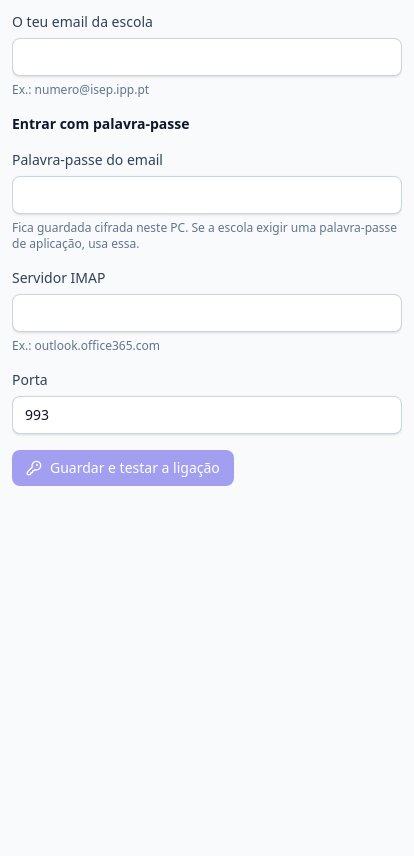
EmailSetup: entrar com a conta da escola (Microsoft) › abre o início de sessão numa janela da app e liga a conta sem pedir palavra-passe
In the field labelled "O teu email da escola": x=207, y=57 [12,38,402,76], type "1234567@isep.ipp.pt"
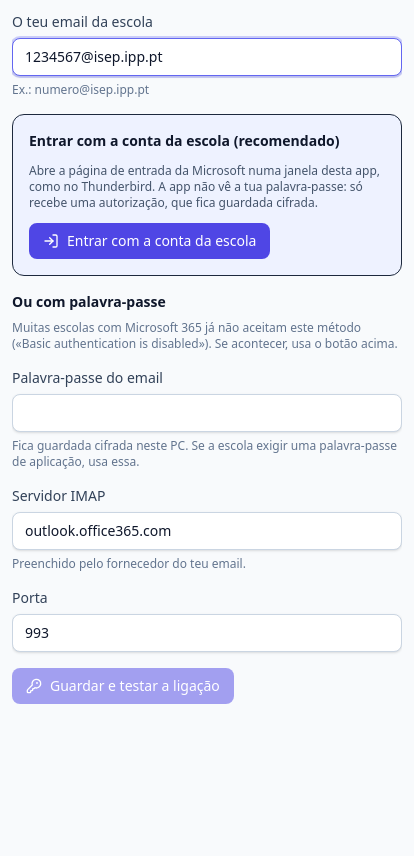
Click the button "Entrar com a conta da escola": x=150, y=241 [29,223,270,259]
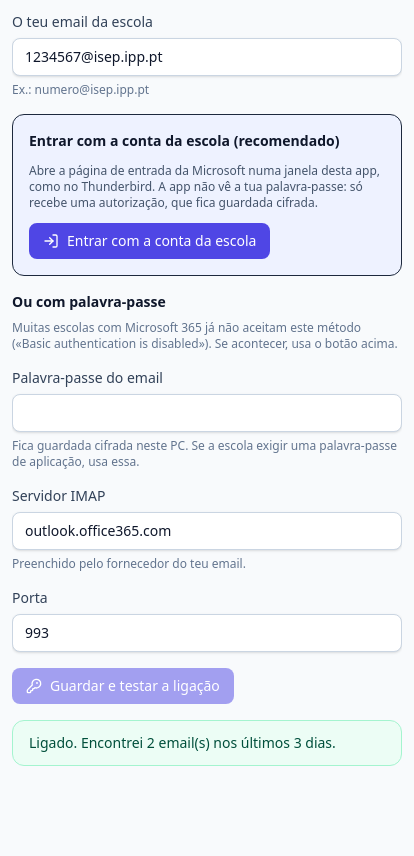
Check: the text "Ligado. Encontrei 2 email(s) nos últimos 3 dias." is shown, box [12,720,402,766]
